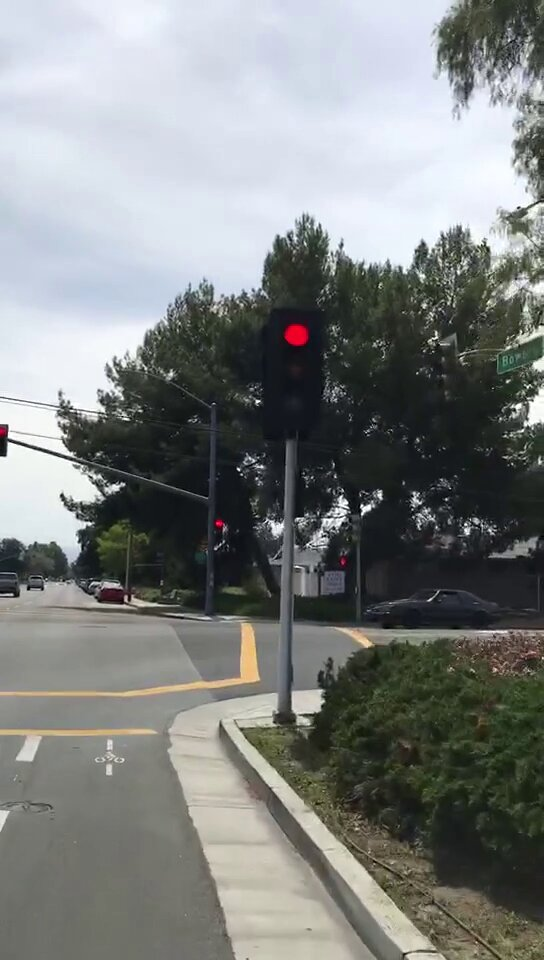red_light: (271, 309, 319, 435), (213, 514, 224, 541)
